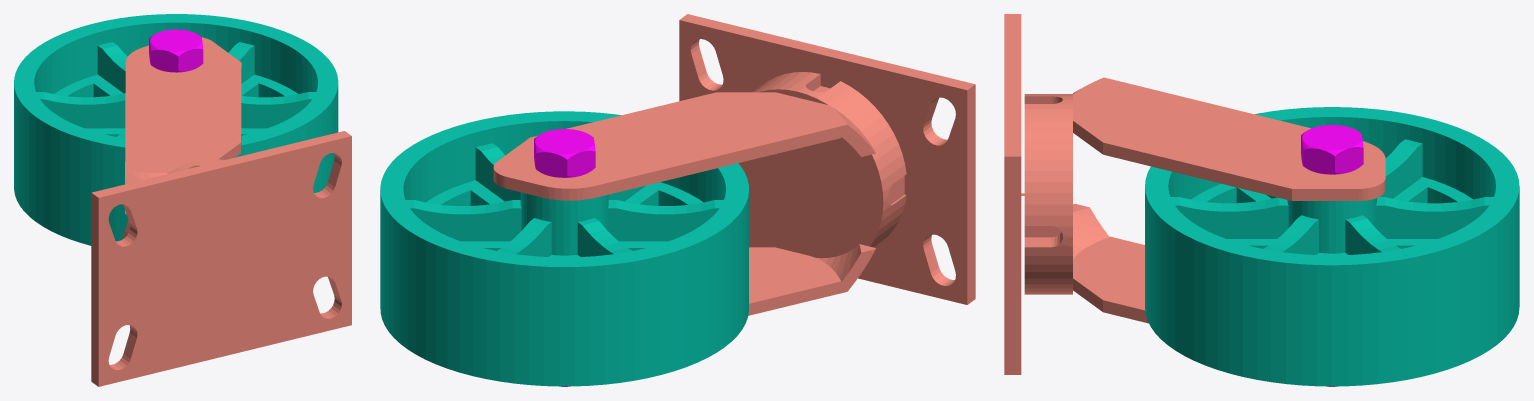
Rendered from swivel_caster_wheel.glb.
3 views of the same model, side by side, from view 1: azimuth 30°, elevation 25°; view 2: azimuth 150°, elevation 25°; view 3: azimuth 270°, elevation 25° (orthographic). The views are drawn at different scales.
Parts seen in each view (by area): view 1: Node1; view 2: Node1; view 3: Node1.
Boxes of the visible parts, bbox=[...] form: Node1: bbox=[14, 14, 351, 386]; Node1: bbox=[380, 14, 975, 386]; Node1: bbox=[1004, 14, 1519, 386].
Size of the model in its own units: 228 by 127 by 244.
